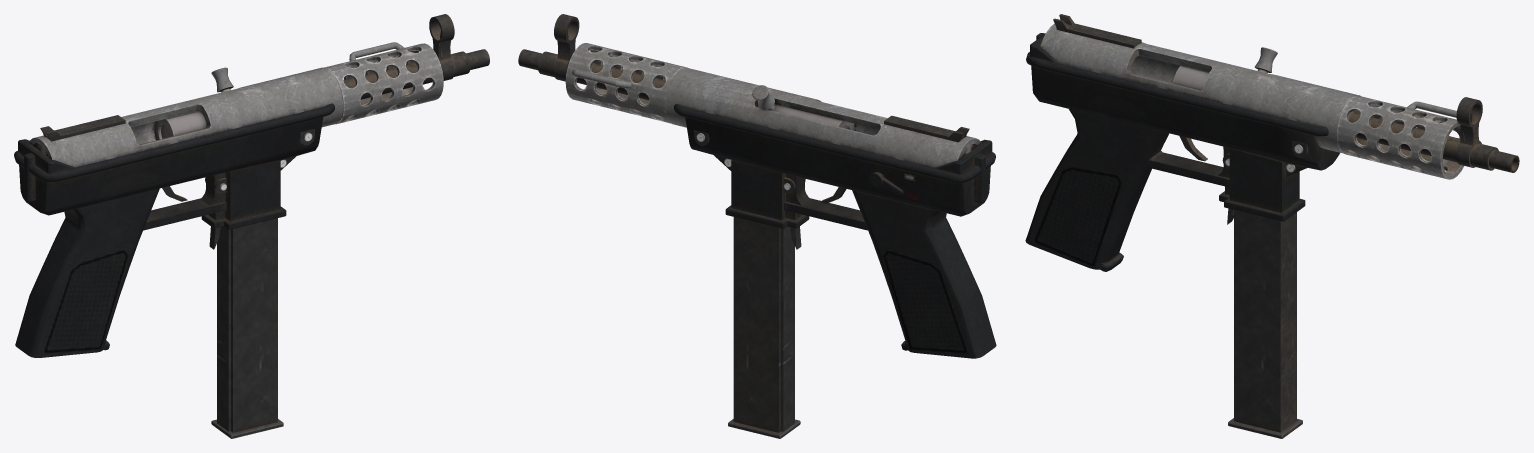
Rendered from gun.gltf.
The picture shows the model from 3 angles, left to right: view 1: azimuth 30°, elevation 25°; view 2: azimuth 150°, elevation 25°; view 3: azimuth 330°, elevation 25°; orthographic projection. The views are drawn at different scales.
Parts seen in each view (by area): view 1: Body, magazine, chamber; view 2: Body, magazine, chamber; view 3: Body, magazine, chamber.
Boxes of the visible parts, <box> form: Body: <box>14,14,489,357</box>; magazine: <box>211,218,283,438</box>; chamber: <box>154,67,233,140</box>; Body: <box>518,14,996,358</box>; magazine: <box>728,217,800,438</box>; chamber: <box>752,85,854,130</box>; Body: <box>1025,14,1519,271</box>; magazine: <box>1228,210,1302,438</box>; chamber: <box>1173,47,1277,90</box>.
Size of the model in its own units: 58.37 by 43.36 by 8.54.
Materials: 1 (1 with a texture image).
